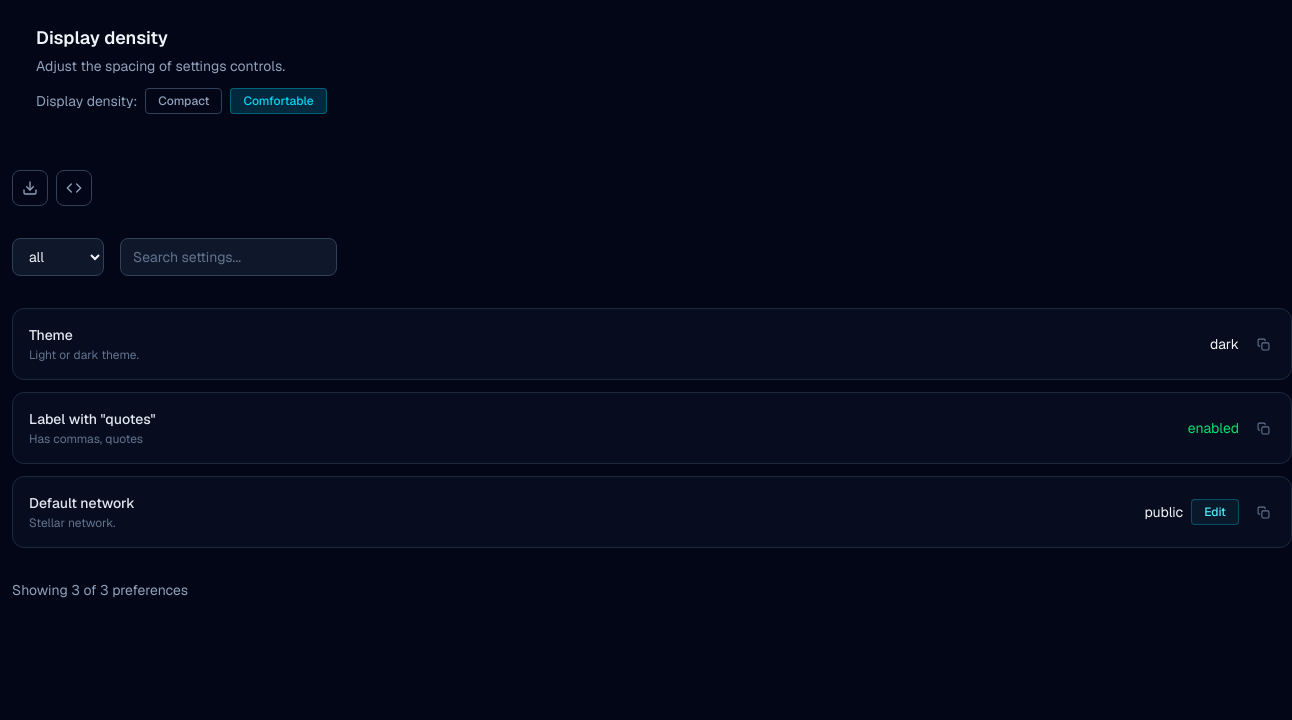
Test: Settings page — theme export controls › JSON export › announces the export to assistive technology
Click the button with test id "export-json-btn": coordinates (74, 188) [56,170,92,206]
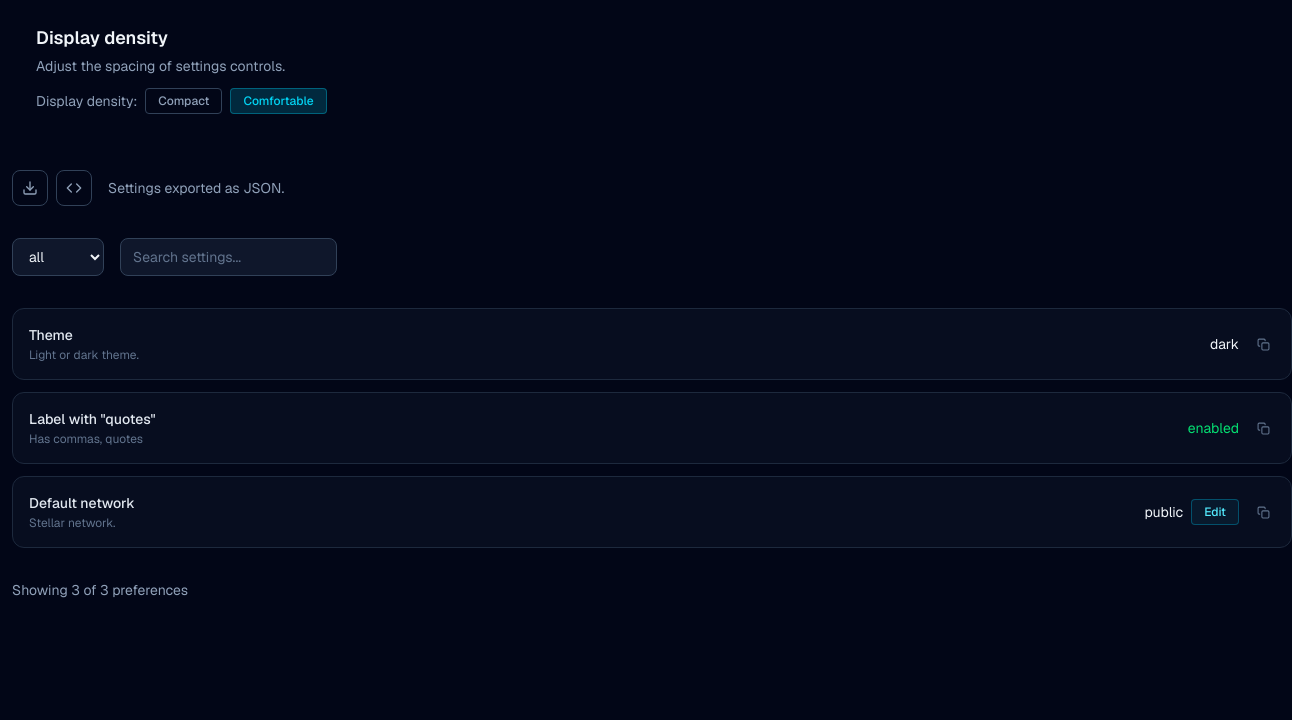
Result: the text with test id "export-announce" reads "Settings exported as JSON." at [108,179,284,197]
